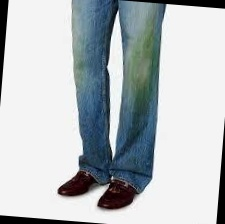earth: (130, 37, 157, 90)
